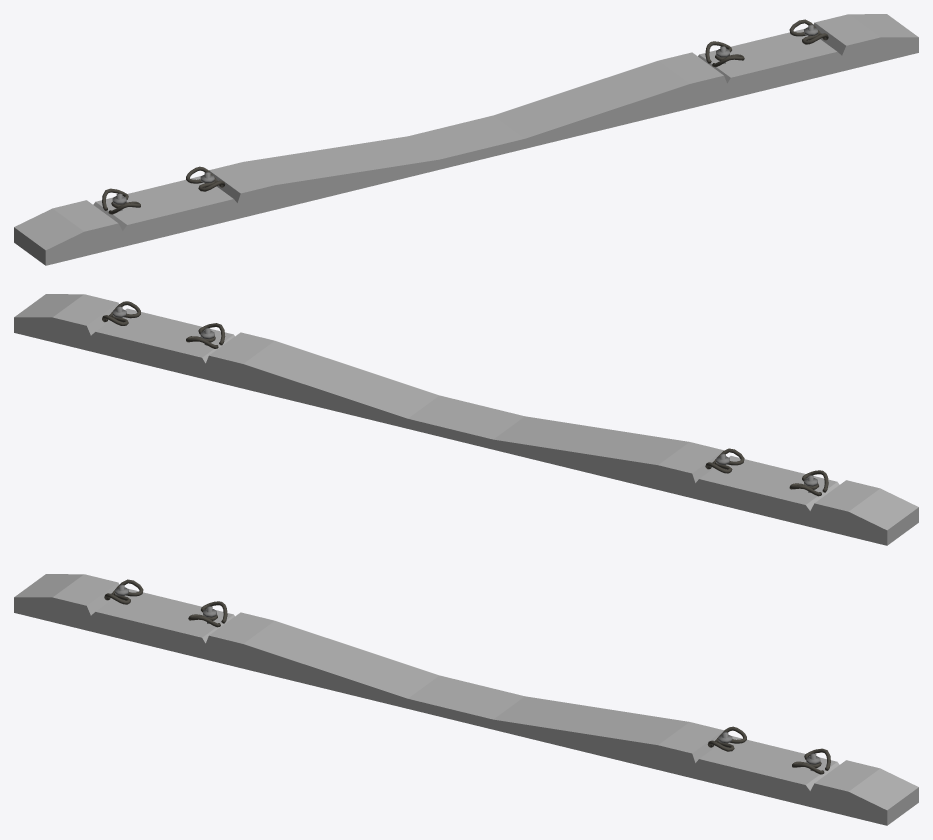
File: sleeper.glb
3 renders of one model, top to bottom at view 1: azimuth 30°, elevation 25°; view 2: azimuth 150°, elevation 25°; view 3: azimuth 330°, elevation 25°, orthographic.
Visible parts, largest first — view 1: Sleeper; view 2: Sleeper; view 3: Sleeper.
Boxes of the visible parts, <box> form: Sleeper: <box>14,14,918,265</box>; Sleeper: <box>14,294,918,545</box>; Sleeper: <box>14,574,918,825</box>.
Size of the model in its own units: 2.05 by 0.0825 by 0.1291.
Materials: 3 (2 with a texture image).
